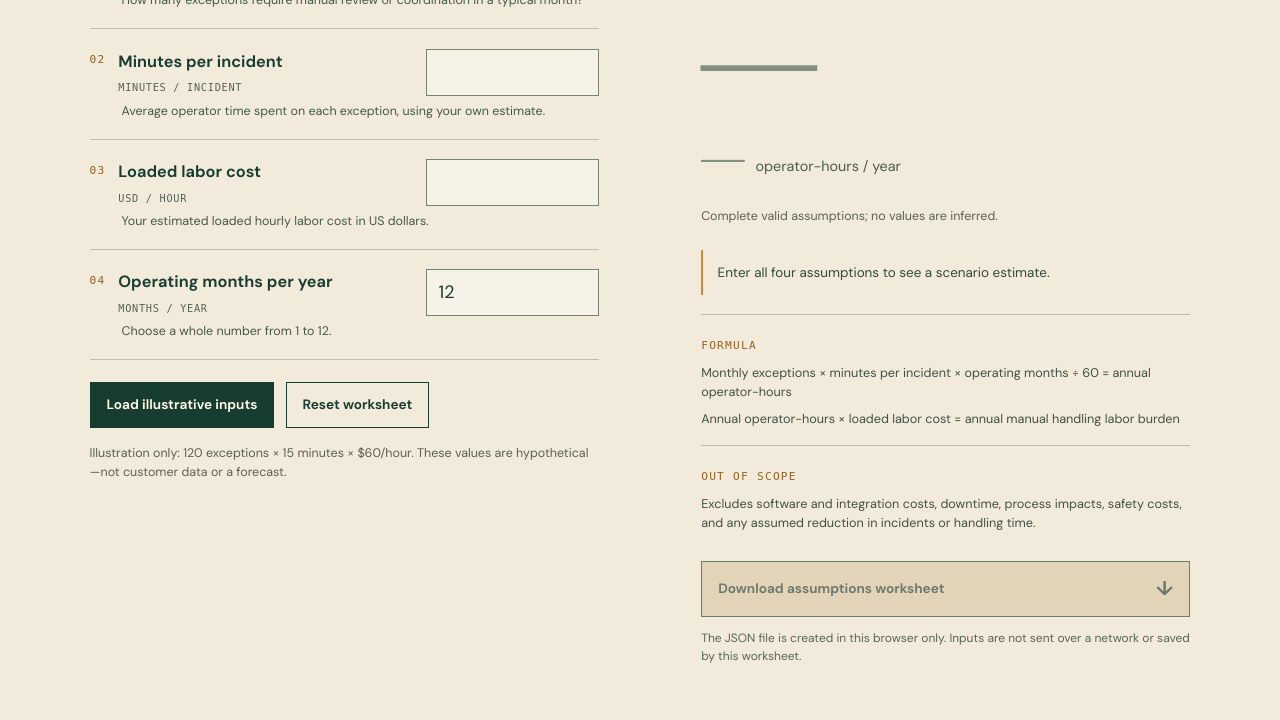
Scenario: ValueWorksheet › loads only clearly hypothetical inputs and reports the arithmetic as baseline burden
(page scrolled)
Click the button "Load illustrative inputs": (182, 405) [90,382,274,428]
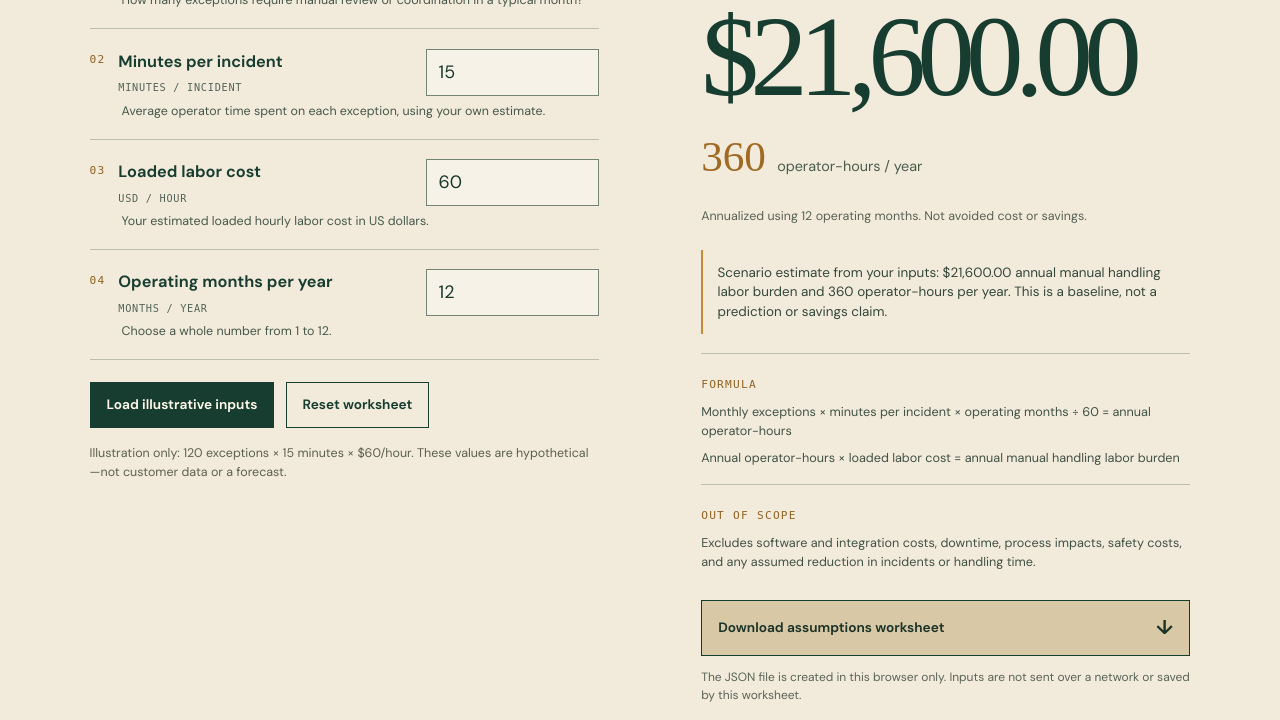
Expected: the number field labelled "02 Minutes per incident minutes / incident" holds "15", [426,48,599,96]
Expected: the number field labelled "03 Loaded labor cost USD / hour" holds "60", [426,159,599,206]
Expected: the text "360" is shown, [701,123,766,191]
